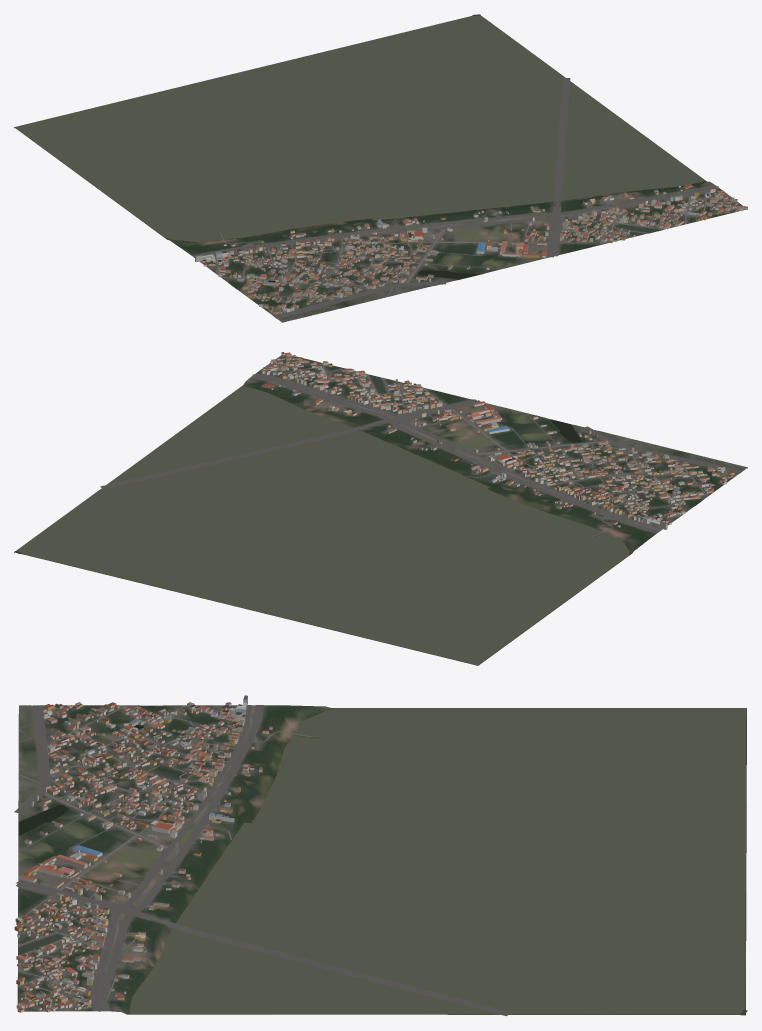
3 views of the same model, one above another, from view 1: azimuth 30°, elevation 25°; view 2: azimuth 150°, elevation 25°; view 3: azimuth 270°, elevation 25° (orthographic). The views are drawn at different scales.
Parts seen in each view (by area): view 1: water, ground, buildings, roads; view 2: water, ground, buildings, roads; view 3: water, ground, buildings, roads.
Boxes of the visible parts, bbox=[...] form: water: bbox=[15, 14, 705, 293]; ground: bbox=[14, 16, 747, 322]; buildings: bbox=[195, 184, 747, 314]; roads: bbox=[192, 78, 738, 321]; water: bbox=[14, 374, 699, 665]; ground: bbox=[14, 355, 747, 665]; buildings: bbox=[262, 352, 734, 529]; roads: bbox=[100, 359, 743, 538]; water: bbox=[18, 705, 747, 1014]; ground: bbox=[17, 705, 746, 1015]; buildings: bbox=[14, 695, 272, 1012]; roads: bbox=[14, 705, 511, 1016].
Bounding box in the file's own units: 1417 × 25.15 × 1413.
